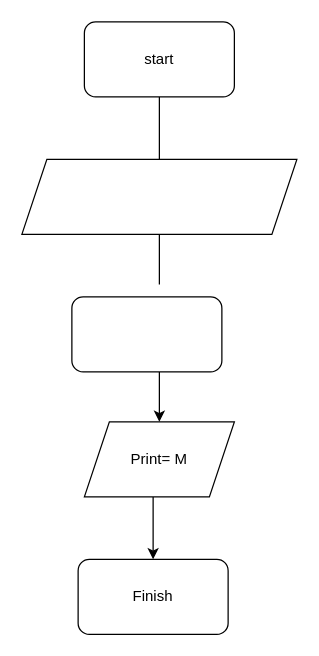
Image size: 319x656. Some labels were removed from this diagram. Each missing label, with the box of its shape:
M= value.Length <=3: (71, 296, 222, 372)
ВВедите массив строк через пробел: (21, 158, 297, 234)
